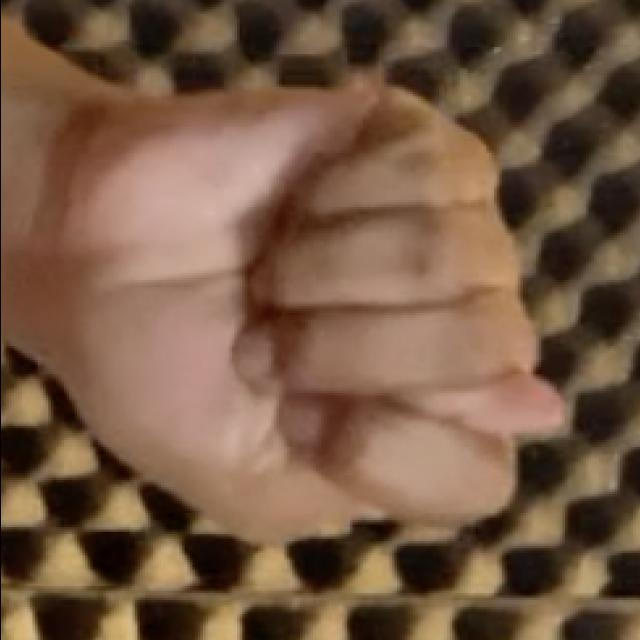T: (22, 62, 586, 556)
